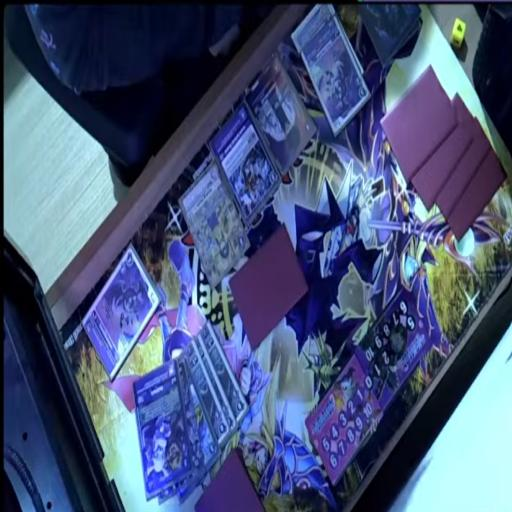card: (81, 242, 163, 383), (178, 159, 252, 287), (209, 99, 281, 226), (245, 53, 319, 176), (132, 357, 194, 503), (300, 13, 372, 135), (199, 320, 250, 427), (184, 336, 232, 449), (175, 353, 209, 505), (182, 352, 223, 472), (192, 332, 239, 432), (292, 0, 336, 56)
